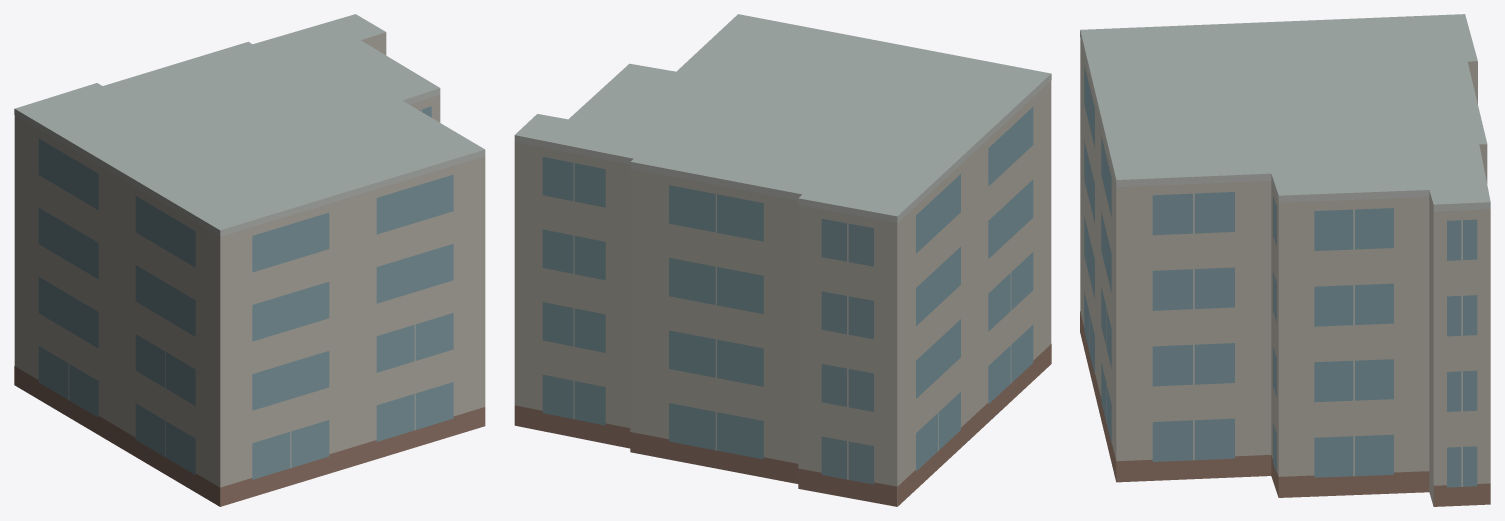
The model's file is survey-upis-32704152.glb.
The picture shows the model from 3 angles, left to right: view 1: azimuth 30°, elevation 25°; view 2: azimuth 150°, elevation 25°; view 3: azimuth 270°, elevation 25°; orthographic projection. The views are drawn at different scales.
Visible parts, largest first — view 1: survey-upis-32704152.tmp; view 2: survey-upis-32704152.tmp; view 3: survey-upis-32704152.tmp.
Part boxes in pixels (box(x1,y1,x2,y2)): survey-upis-32704152.tmp: box(14, 14, 485, 506); survey-upis-32704152.tmp: box(514, 14, 1051, 506); survey-upis-32704152.tmp: box(1080, 14, 1490, 506).
Bounding box in the file's own units: 14.14 × 10.45 × 12.88.
